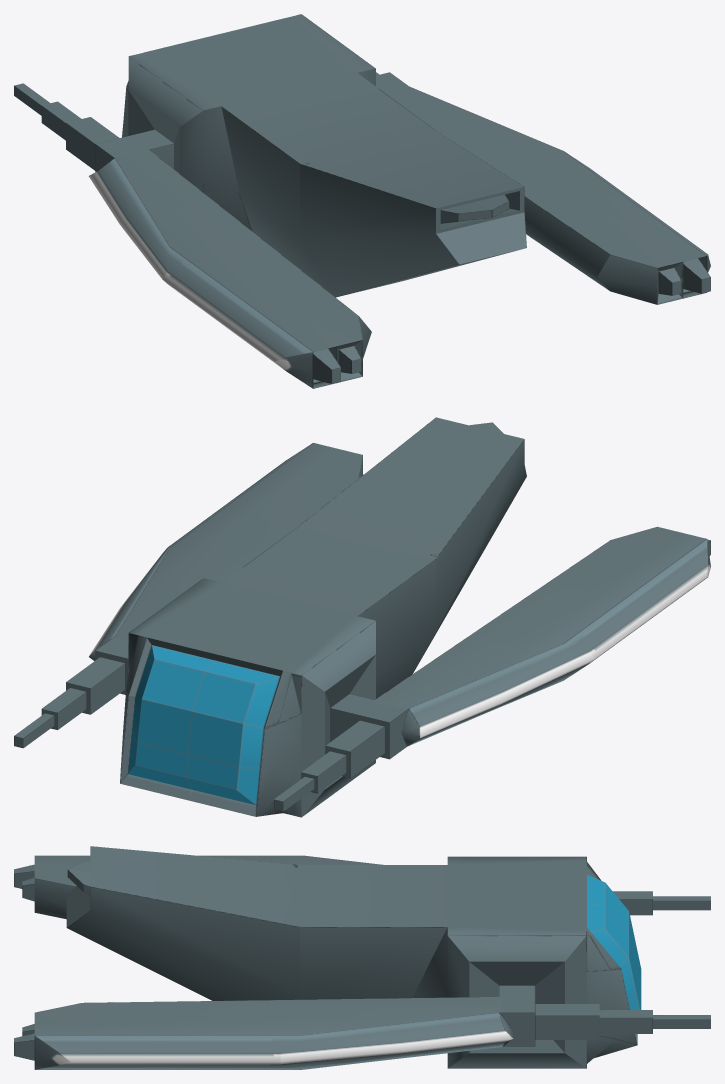
The model's file is ShipModel1.fbx.
The picture shows the model from 3 angles, top to bottom: view 1: azimuth 30°, elevation 25°; view 2: azimuth 150°, elevation 25°; view 3: azimuth 270°, elevation 25°; orthographic projection. The views are drawn at different scales.
Visible parts, largest first — view 1: pCube5; view 2: pCube5; view 3: pCube5.
Part boxes in pixels (left/top/right/bottom): pCube5: left=14, top=14, right=710, bottom=388; pCube5: left=14, top=417, right=710, bottom=817; pCube5: left=14, top=846, right=710, bottom=1069.
Size of the model in its own units: 3.18 by 1.22 by 4.74.
